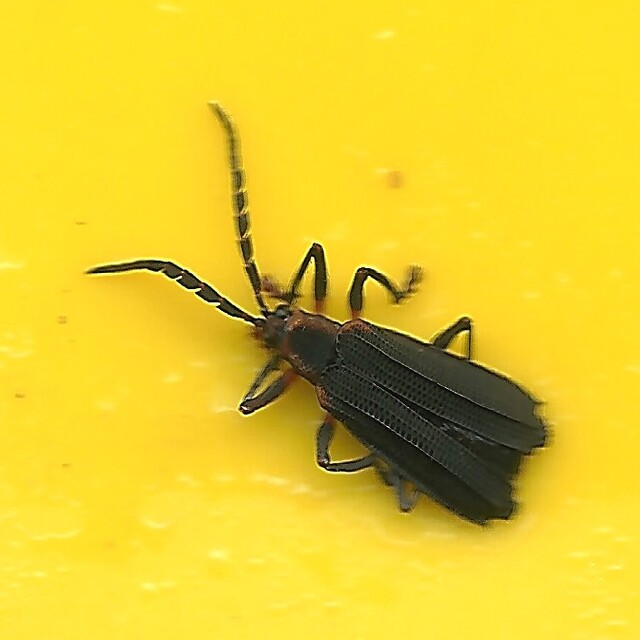Coleoptera: (83, 95, 557, 545)
